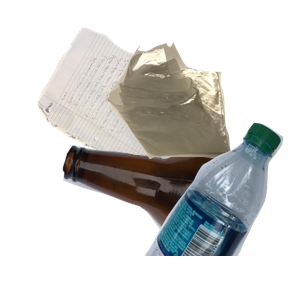glass: (60, 142, 300, 300)
paper: (35, 25, 232, 204)
plastic: (142, 120, 300, 300)
trash: (101, 40, 300, 192)
